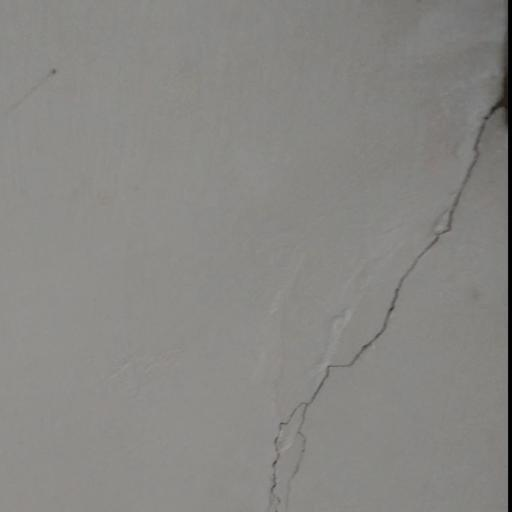minor_crack: (234, 50, 512, 512)
